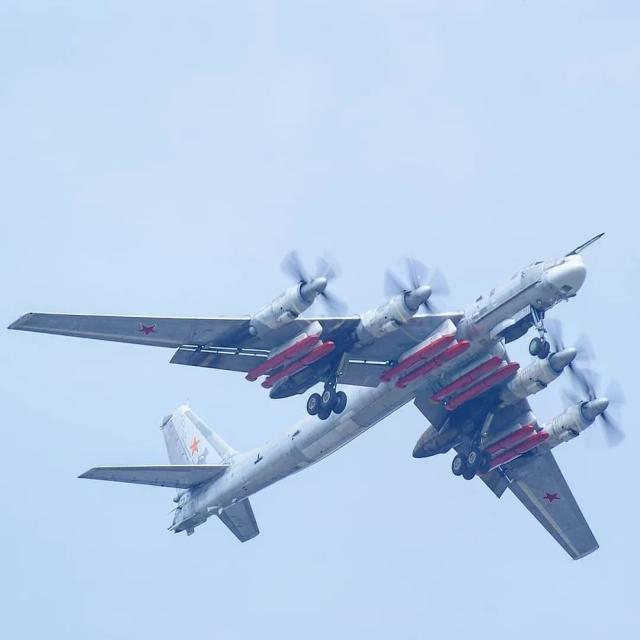MIL_Plane: (6, 231, 626, 561)
